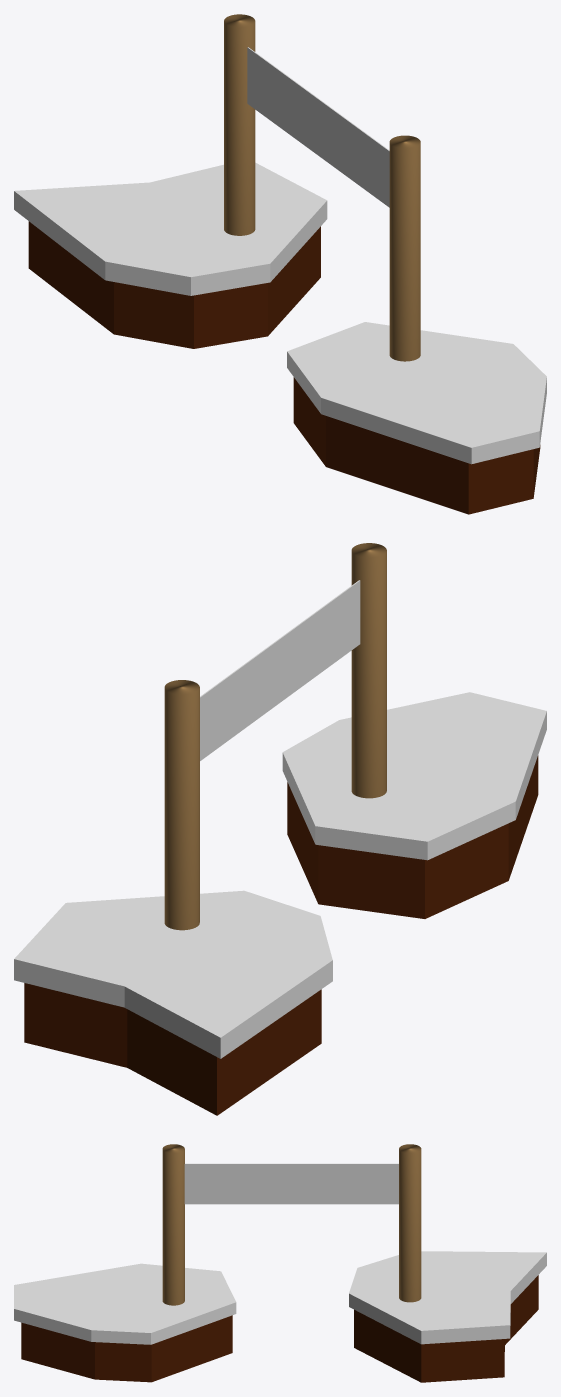
File: ligne d'arrivee neige.fbx
3 renders of one model, top to bottom at view 1: azimuth 30°, elevation 25°; view 2: azimuth 150°, elevation 25°; view 3: azimuth 270°, elevation 25°, orthographic. The views are drawn at different scales.
Parts seen in each view (by area): view 1: Terre 1.000, Terre.001, Herbe, Terre, Cube, Cylinder.001, Cylinder; view 2: Terre 1.000, Terre.001, Herbe, Terre, Cube, Cylinder, Cylinder.001; view 3: Terre 1.000, Terre.001, Cube, Terre, Herbe, Cylinder.001, Cylinder.
Part boxes in pixels (<box>): Terre 1.000: <box>14,162,327,295</box>; Terre.001: <box>287,322,546,464</box>; Herbe: <box>28,221,320,348</box>; Terre: <box>293,377,540,514</box>; Cube: <box>247,47,389,207</box>; Cylinder.001: <box>389,135,420,361</box>; Cylinder: <box>224,14,255,235</box>; Terre 1.000: <box>14,890,332,1058</box>; Terre.001: <box>282,692,546,860</box>; Herbe: <box>24,983,321,1115</box>; Terre: <box>287,755,538,918</box>; Cube: <box>200,580,360,760</box>; Cylinder: <box>164,680,199,930</box>; Cylinder.001: <box>351,543,386,798</box>; Terre 1.000: <box>349,1251,546,1344</box>; Terre.001: <box>14,1263,236,1344</box>; Cube: <box>184,1163,398,1204</box>; Terre: <box>21,1315,232,1382</box>; Herbe: <box>354,1275,538,1382</box>; Cylinder.001: <box>162,1144,184,1305</box>; Cylinder: <box>399,1144,421,1302</box>.
Bounding box in the file's own units: 851 × 1007 × 2398.
